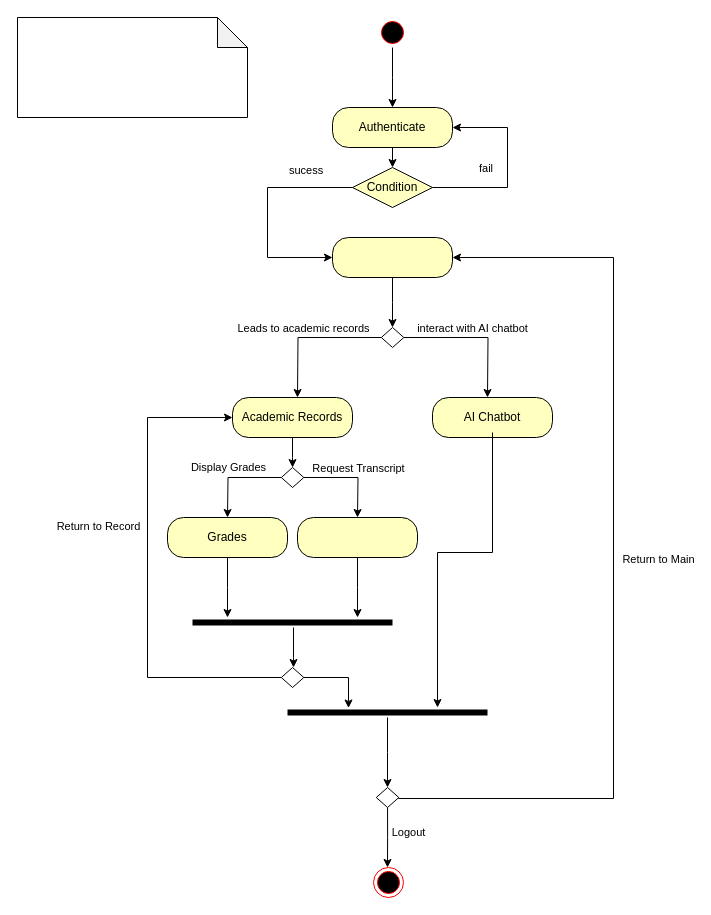
Some shapes in this 711 by 915 pixel diagram are drawn without their labels. The shapes that lost their labels are listed below. From the top down, each one's box as (x1, y1, x2, y2) in pixels, then its label:
(16, 16, 248, 118): UML Activity Diagram for View Grades /Transcript and Interact with AI Chatbot
(332, 236, 452, 278): Enter Main Dashboard
(296, 516, 418, 558): transcript
